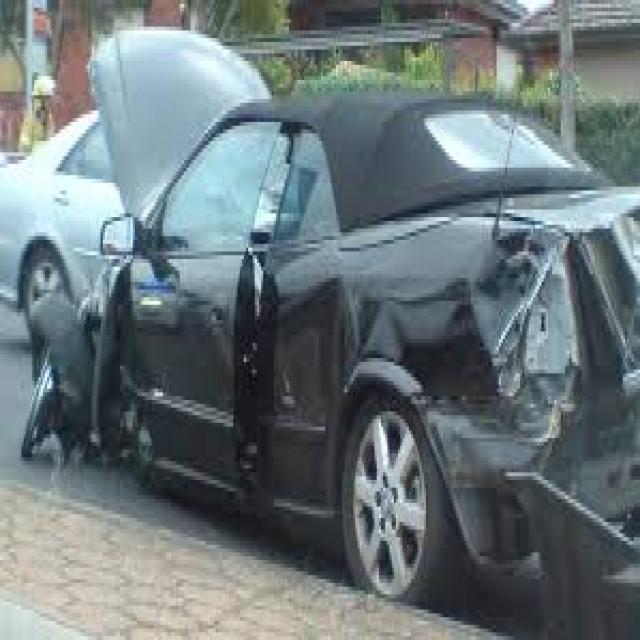moderate: (27, 17, 607, 536)
